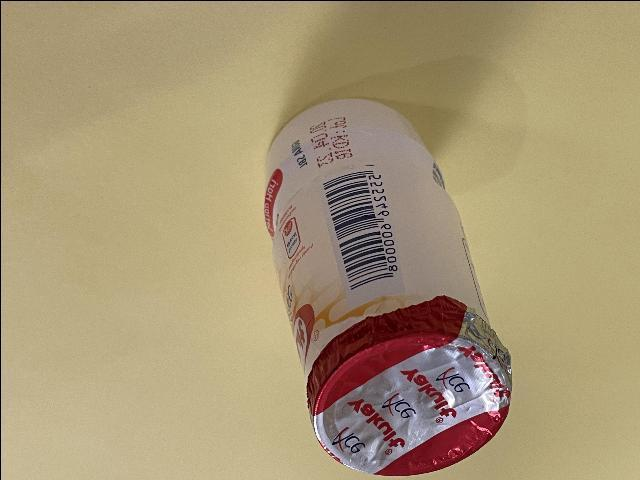plasticbottle: (261, 92, 514, 476)
